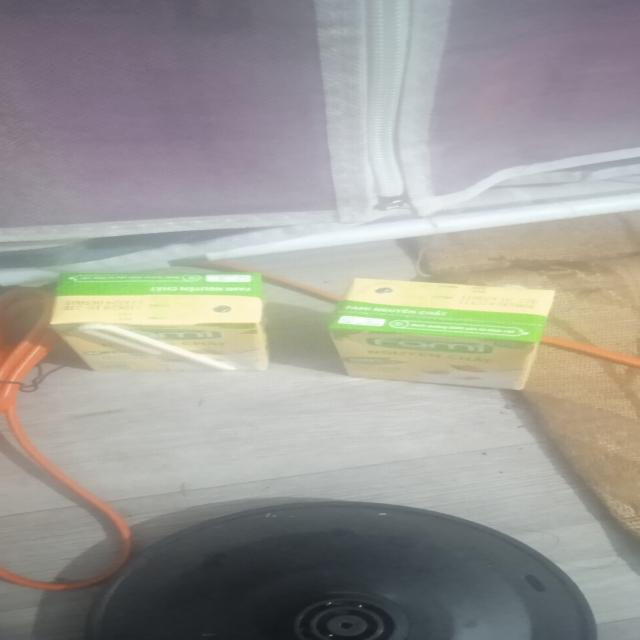Fami: (334, 277, 558, 394), (51, 270, 268, 378)
